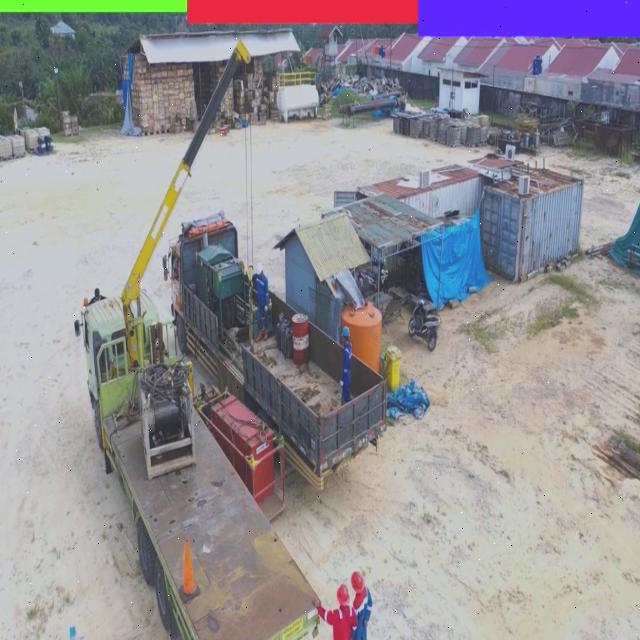Hardhat: (351, 570, 365, 596), (336, 586, 350, 606), (254, 261, 265, 278), (339, 325, 350, 340)
No Glove: (311, 594, 320, 608)
No Overall Suit: (320, 604, 358, 640), (340, 342, 352, 409), (254, 274, 268, 329)
Overall Suit: (352, 589, 372, 640)
Safety Boots: (263, 326, 270, 343), (255, 330, 262, 344)
